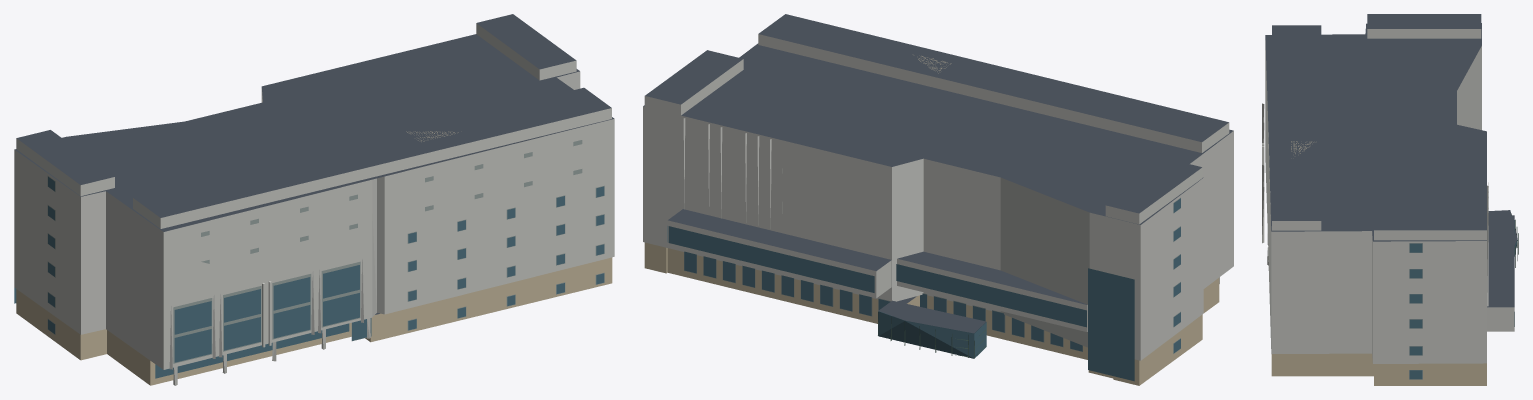
The model's file is social-history.lod1.glb.
3 renders of one model, left to right at view 1: azimuth 30°, elevation 25°; view 2: azimuth 150°, elevation 25°; view 3: azimuth 270°, elevation 25°, orthographic. The views are drawn at different scales.
Parts seen in each view (by area): view 1: social-history; view 2: social-history; view 3: social-history.
Boxes of the visible parts, x1=… form: social-history: x1=14, y1=14, x2=614, y2=385; social-history: x1=643, y1=14, x2=1233, y2=385; social-history: x1=1262, y1=14, x2=1518, y2=385.
Bounding box in the file's own units: 76.54 × 25.65 × 37.99.
